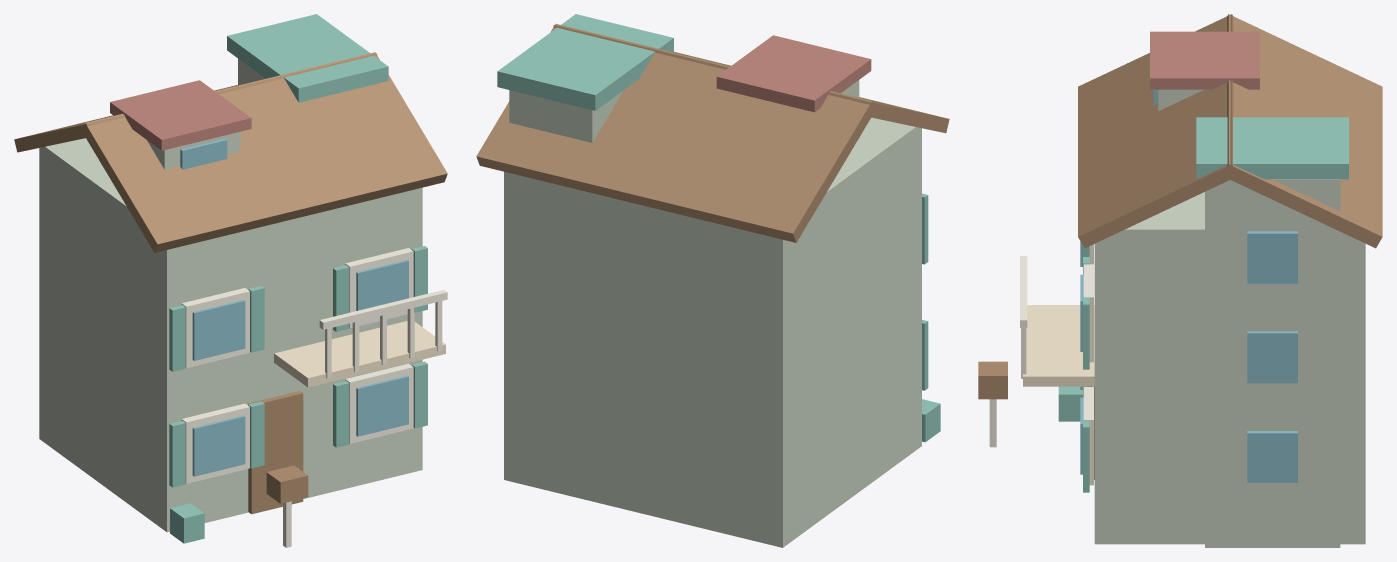
Rendered from home-15.glb.
The picture shows the model from 3 angles, left to right: view 1: azimuth 30°, elevation 25°; view 2: azimuth 150°, elevation 25°; view 3: azimuth 270°, elevation 25°; orthographic projection. The views are drawn at different scales.
Visible parts, largest first — view 1: dormer.003, front door.014, flower planter.011, dormer window.003, balcony baluster.004, dormer cap.003, balcony deck; view 2: dormer.003, front door.014, flower planter.011, dormer cap.003; view 3: dormer.003, front door.014, flower planter.011, dormer window.003, dormer cap.003, balcony deck, balcony baluster.004.
Part boxes in pixels (box(x1,y1,x2,y2)): dormer.003: box(39, 58, 422, 532); front door.014: box(14, 52, 447, 514); flower planter.011: box(169, 14, 427, 543); dormer window.003: box(180, 138, 408, 476); balcony baluster.004: box(181, 248, 447, 547); dormer cap.003: box(110, 80, 251, 150); balcony deck: box(274, 321, 445, 387); dormer.003: box(504, 80, 921, 547); front door.014: box(476, 23, 949, 242); flower planter.011: box(497, 14, 940, 442); dormer cap.003: box(716, 35, 871, 112); dormer.003: box(1094, 89, 1365, 547); front door.014: box(978, 14, 1382, 479); flower planter.011: box(1058, 117, 1348, 492); dormer window.003: box(1080, 89, 1297, 482); dormer cap.003: box(1150, 31, 1259, 89); balcony deck: box(1023, 305, 1094, 386); balcony baluster.004: box(989, 244, 1093, 485).
Bounding box in the file's own units: 4.2 × 5.09 × 4.77.
